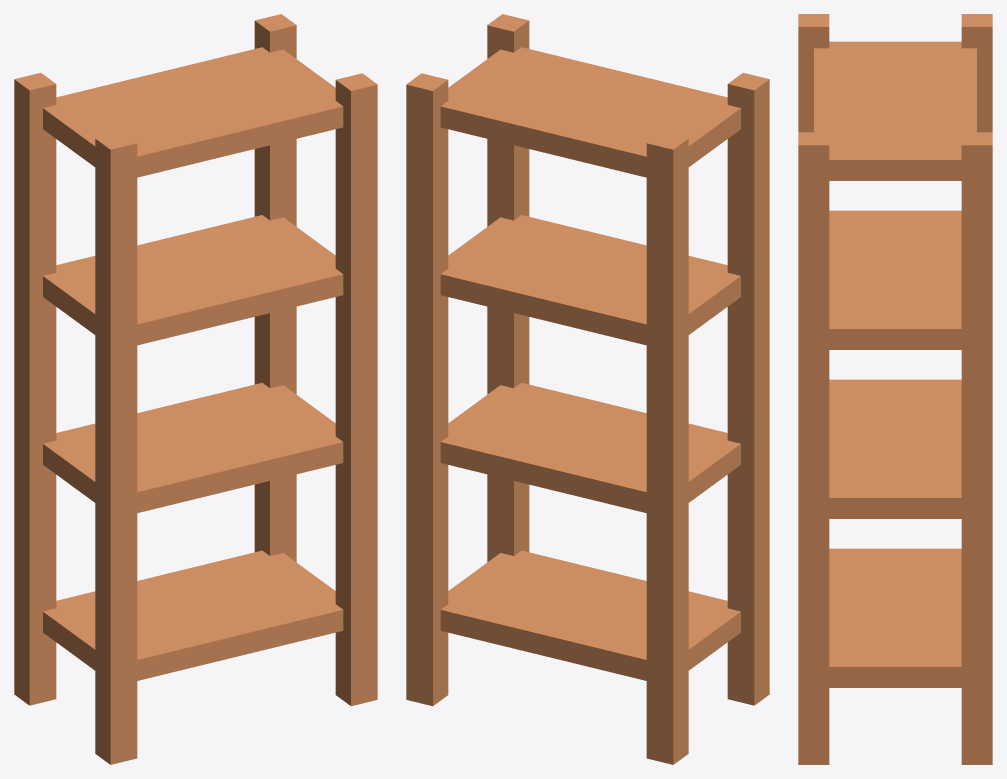
Rendered from Bookcase Open.glb.
3 renders of one model, left to right at view 1: azimuth 30°, elevation 25°; view 2: azimuth 150°, elevation 25°; view 3: azimuth 270°, elevation 25°, orthographic.
Parts seen in each view (by area): view 1: bookcaseOpen(Clone); view 2: bookcaseOpen(Clone); view 3: bookcaseOpen(Clone).
Boxes of the visible parts, x1,y1,x2,y2 form: bookcaseOpen(Clone): (14,14,377,764); bookcaseOpen(Clone): (406,14,769,764); bookcaseOpen(Clone): (798,14,992,764).
Size of the model in its own units: 0.4 by 0.88 by 0.25.
